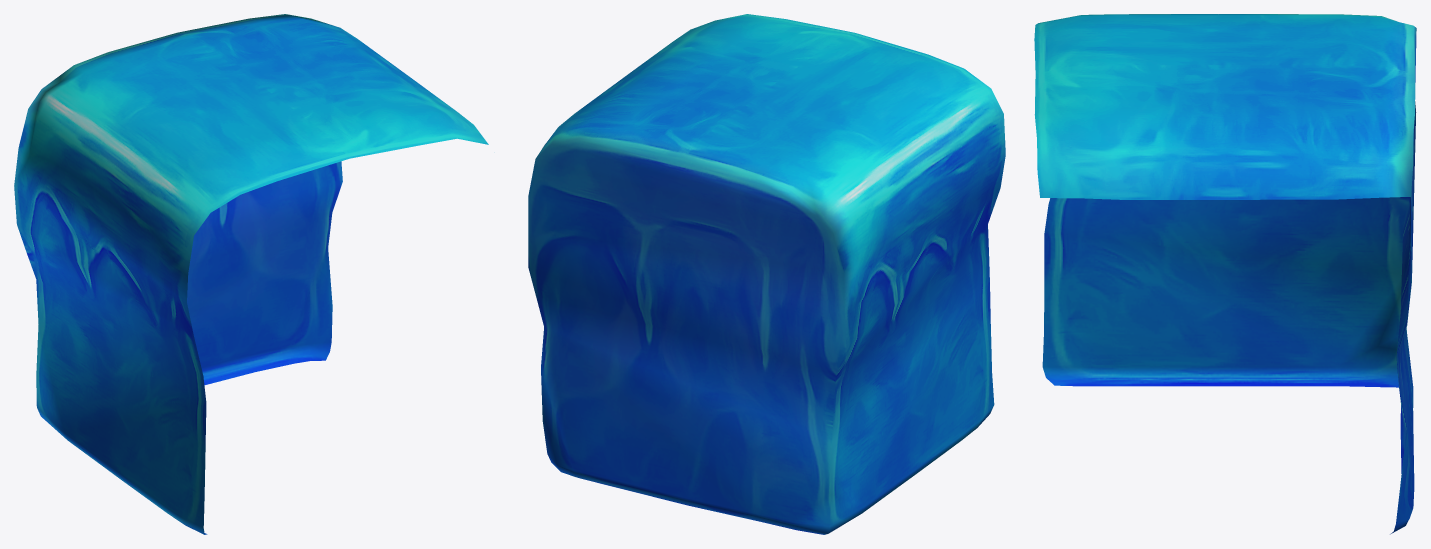
The model's file is IceCube2v1.fbx.
The picture shows the model from 3 angles, left to right: view 1: azimuth 30°, elevation 25°; view 2: azimuth 150°, elevation 25°; view 3: azimuth 270°, elevation 25°; orthographic projection. The views are drawn at different scales.
Visible parts, largest first — view 1: ice_cube_2v1; view 2: ice_cube_2v1; view 3: ice_cube_2v1.
Part boxes in pixels (<box>): ice_cube_2v1: <box>14,14,488,534</box>; ice_cube_2v1: <box>528,14,1005,534</box>; ice_cube_2v1: <box>1034,14,1416,534</box>.
Bounding box in the file's own units: 102 × 109 × 94.9.
